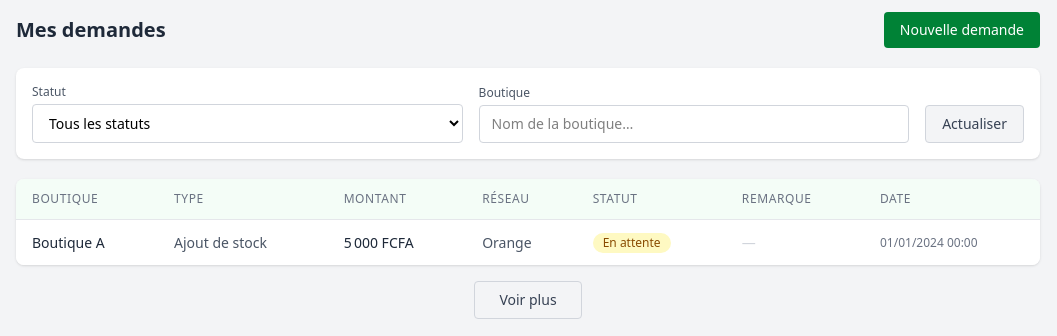
TC-041-RT-D — DealerRequests temps réel › [RT-D-02] pas de doublons lors de pagination (dedup par id)
The width and height of the screenshot is (1057, 336).
Step 1. Click the button with test id "btn-load-more" → {"x": 528, "y": 300}, box [474,281,582,319]
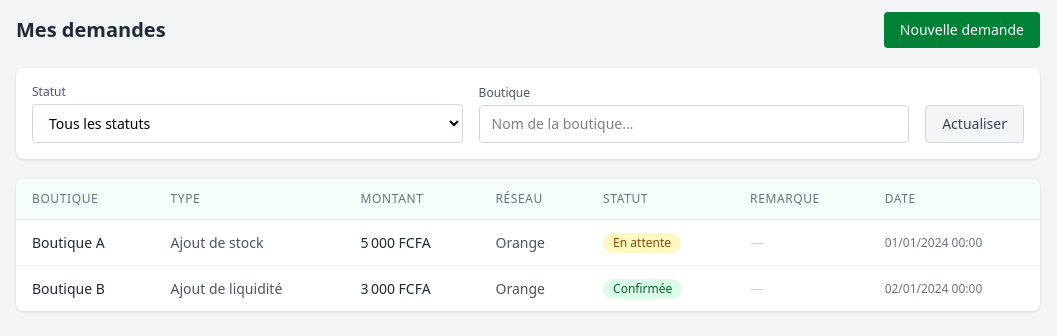
Check: the row with test id "request-row-req-2" is shown, box [16,266,1040,311]
